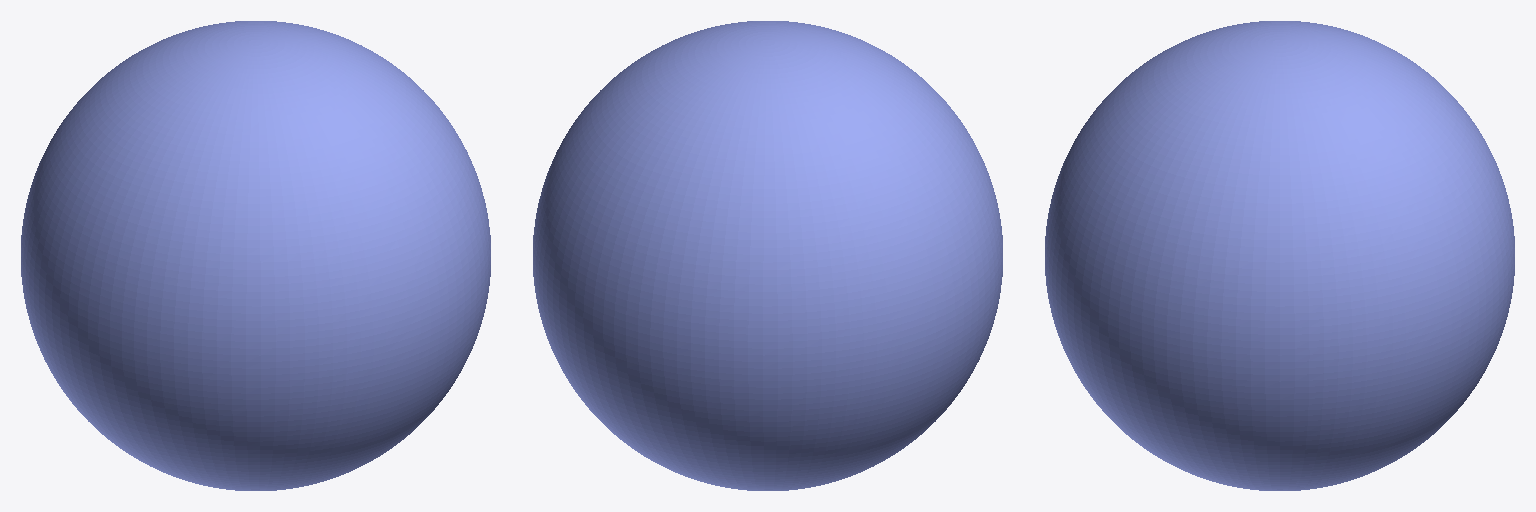
The model's file is earth.obj.
The picture shows the model from 3 angles: view 1: azimuth 30°, elevation 25°; view 2: azimuth 150°, elevation 25°; view 3: azimuth 270°, elevation 25°; orthographic projection.
Parts seen in each view (by area): view 1: Sphere; view 2: Sphere; view 3: Sphere.
Boxes of the visible parts, <box> form: Sphere: <box>21,21,490,490</box>; Sphere: <box>533,21,1002,490</box>; Sphere: <box>1045,21,1514,490</box>.
Bounding box in the file's own units: 1 × 1 × 1.